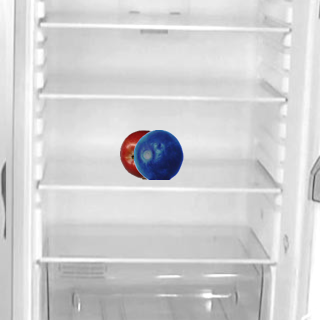Apple Braeburn: (119, 129, 169, 179)
Huckleberry: (133, 129, 183, 179)
